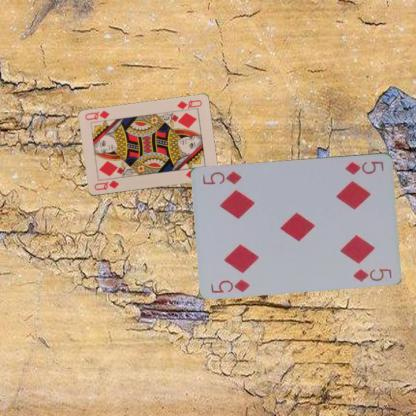5d: (342, 158, 386, 176), (208, 276, 251, 294)
Qd: (173, 98, 203, 113), (92, 178, 120, 191)
